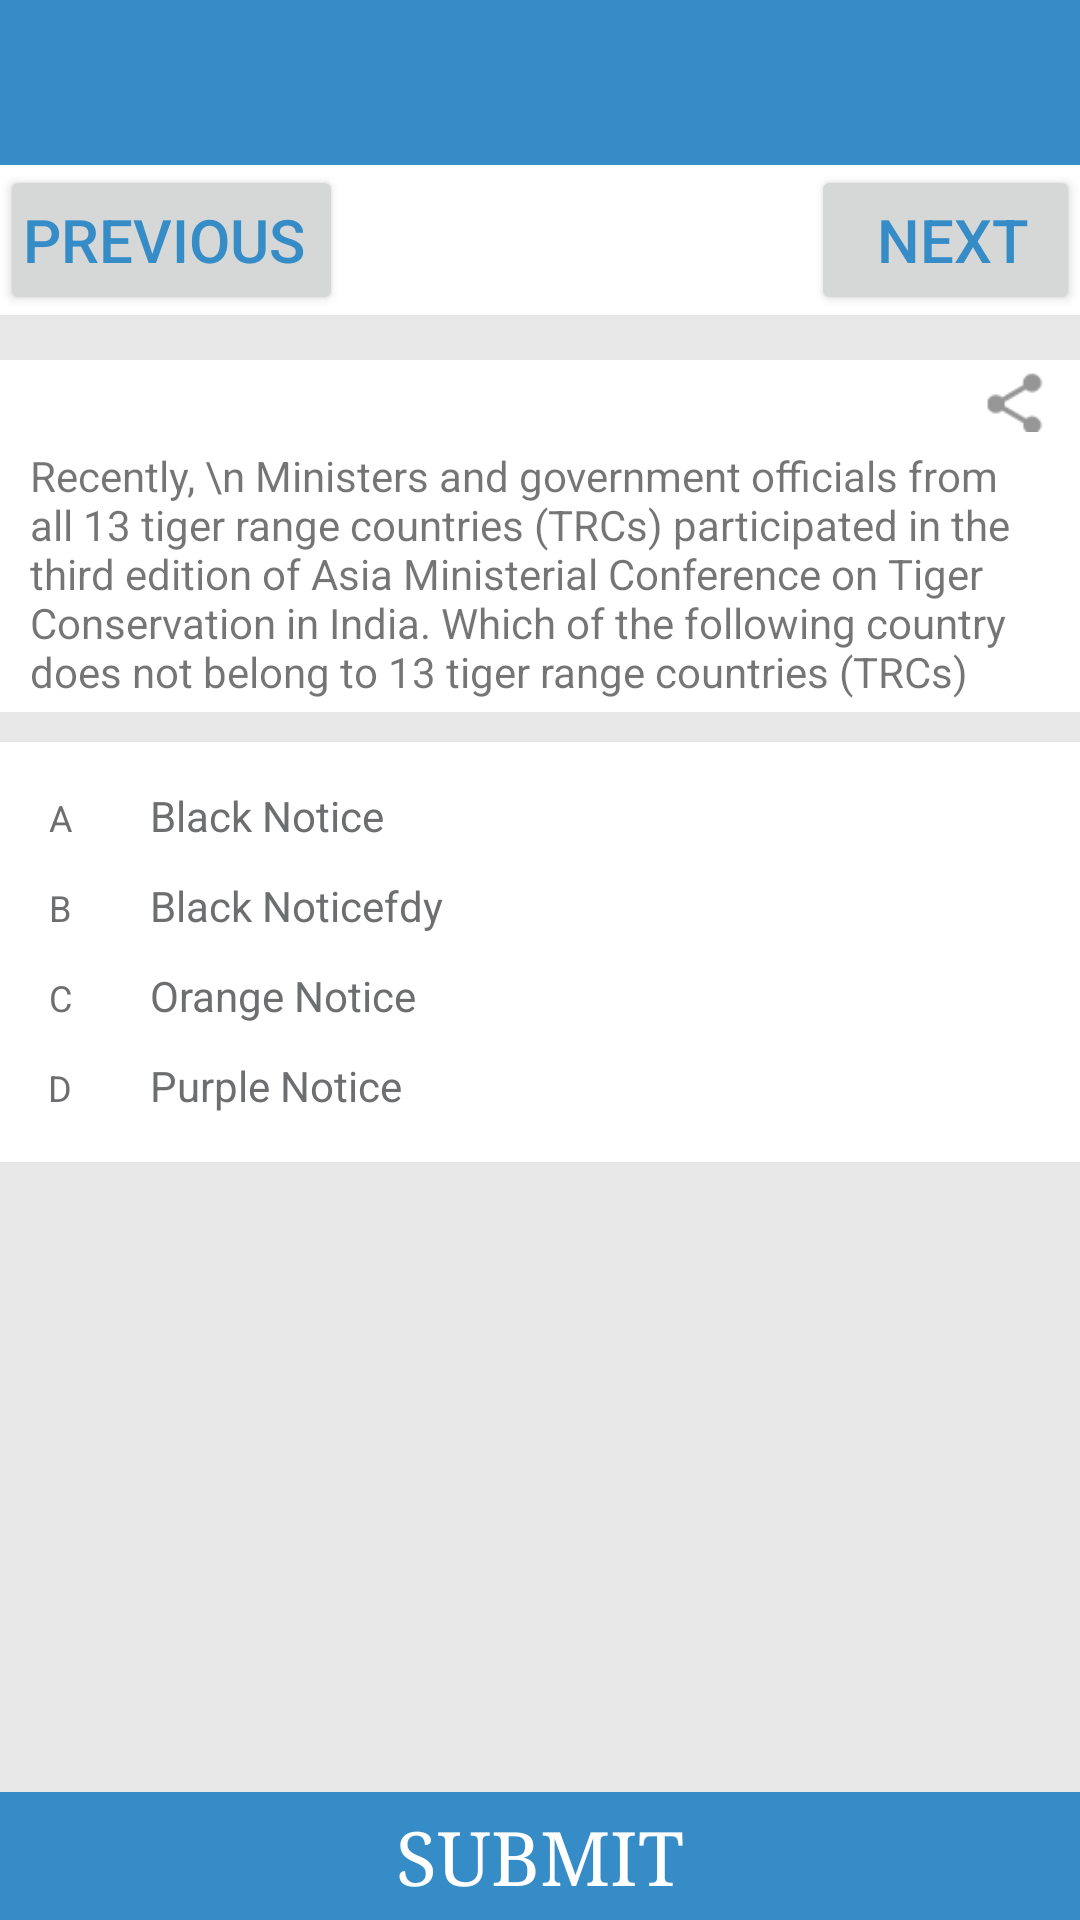

Icon bounding boxes for this 1080×1920 phone screenshot, format (x1, y1, x2, y2):
share: (987, 373, 1042, 432)
